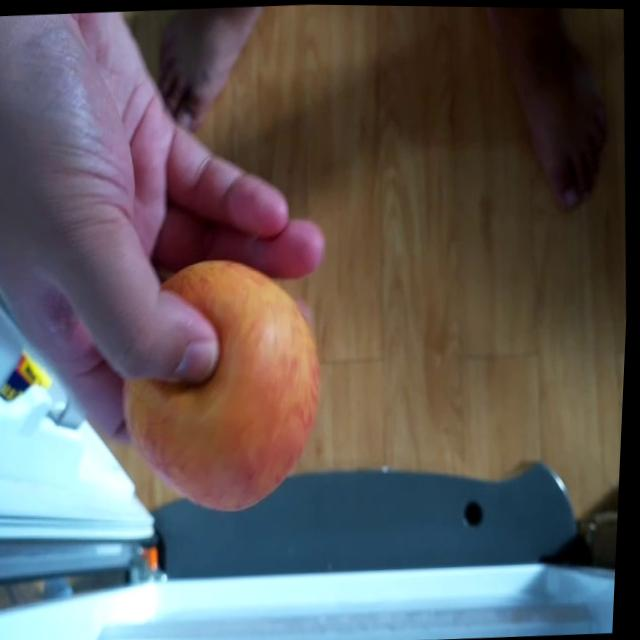apple: (113, 250, 336, 522)
